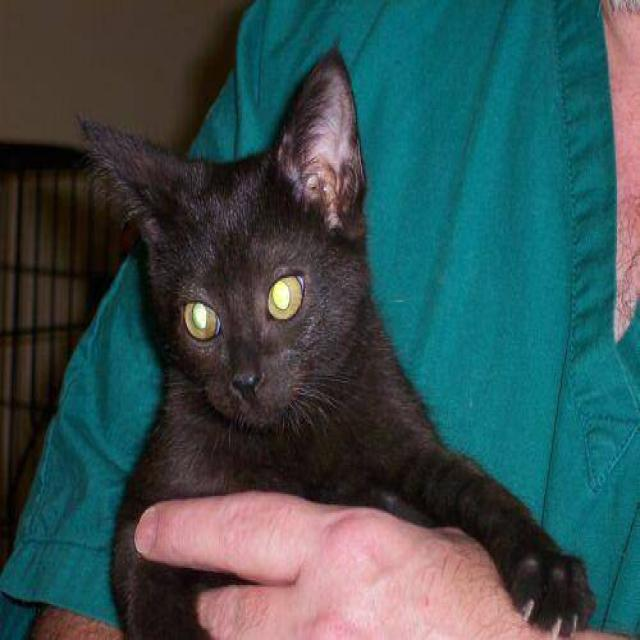cat: (76, 45, 596, 638)
